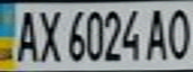0: (84, 6, 106, 62)
2: (103, 6, 124, 63)
4: (121, 6, 145, 62)
6: (63, 6, 87, 63)
A: (9, 6, 42, 63), (145, 5, 172, 62)
O: (163, 3, 193, 61)
X: (33, 6, 63, 63)
